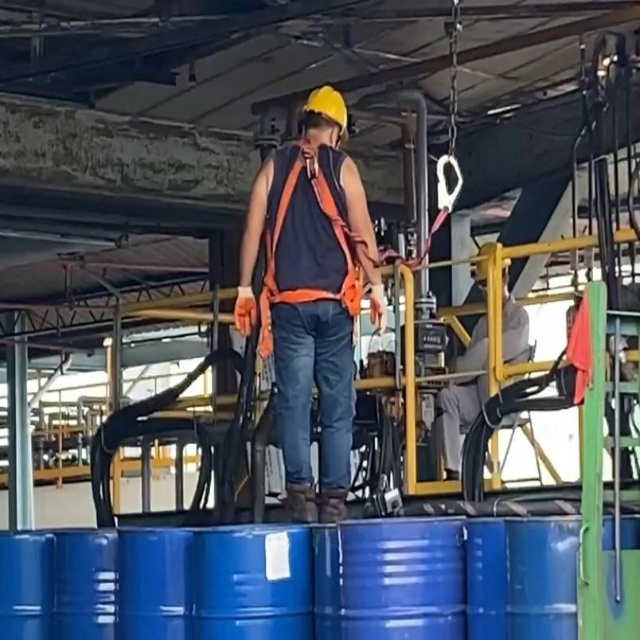Arnes_seguridad: (259, 137, 364, 335)
